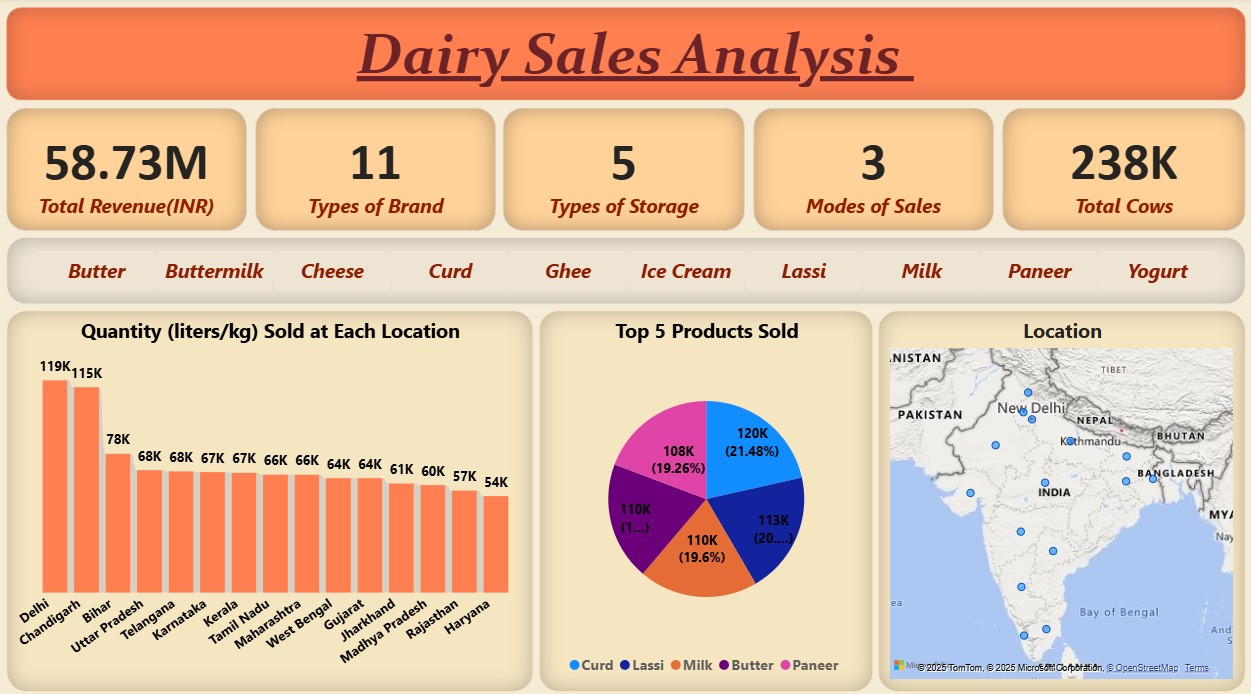

This screenshot's page, from the dashboard's own definition file:
{"tool":"powerbi","page":{"name":"Home","canvas":[1280,720],"ordinal":0},"visuals":[{"type":"card","fields":{"Values":["Sum(dairy_dataset.Approx. Total Revenue(INR))"]},"box":[7.7,113.4,245.1,125.6],"z":0},{"type":"card","fields":{"Values":["Count(dairy_dataset.Brand)"]},"box":[262,113.4,245.1,125.6],"z":1000},{"type":"card","fields":{"Values":["Count(dairy_dataset.Storage Condition)"]},"box":[514.7,113.4,246.6,125.6],"z":2000},{"type":"card","fields":{"Values":["Count(dairy_dataset.Sales Channel)"]},"box":[770.6,113.4,245.1,125.6],"z":3000},{"type":"card","fields":{"Values":["Sum(dairy_dataset.Number of Cows)"]},"box":[1024.9,113.4,248.2,125.6],"z":4000},{"type":"columnChart","title":"Quantity (liters/kg)  Sold at Each Location","fields":{"Category":["dairy_dataset.Customer Location"],"Y":["Sum(dairy_dataset.Quantity Sold (liters/kg))"]},"box":[7.7,320.2,537.7,389.1],"z":5000},{"type":"slicer","fields":{"Values":["dairy_dataset.Product Name"]},"box":[7.7,245.1,1265.4,68.9],"z":6000},{"type":"textbox","box":[7.7,10.7,1265.4,95],"z":7000},{"type":"pieChart","title":"Top 5 Products Sold","fields":{"Category":["dairy_dataset.Product Name"],"Y":["Sum(dairy_dataset.Quantity Sold (liters/kg))"]},"box":[551.5,320.2,341.6,389.1],"z":8000},{"type":"map","fields":{"Category":["dairy_dataset.Location"]},"box":[897.7,320.2,375.3,389.1],"z":9000}]}

Visuals, with their boxes in screenshot pixels (x1, y1, x2, y2), scaled from the page's 1280x720 canvas onto the 1251x694 screenshot:
card - Sum(dairy_dataset.Approx. Total Revenue(INR)): box(8, 109, 247, 230)
card - Count(dairy_dataset.Brand): box(256, 109, 496, 230)
card - Count(dairy_dataset.Storage Condition): box(503, 109, 744, 230)
card - Count(dairy_dataset.Sales Channel): box(753, 109, 993, 230)
card - Sum(dairy_dataset.Number of Cows): box(1002, 109, 1244, 230)
"Quantity (liters/kg)  Sold at Each Location" columnChart: box(8, 309, 533, 684)
slicer - dairy_dataset.Product Name: box(8, 236, 1244, 303)
textbox: box(8, 10, 1244, 102)
"Top 5 Products Sold" pieChart: box(539, 309, 873, 684)
map - dairy_dataset.Location: box(877, 309, 1244, 684)
